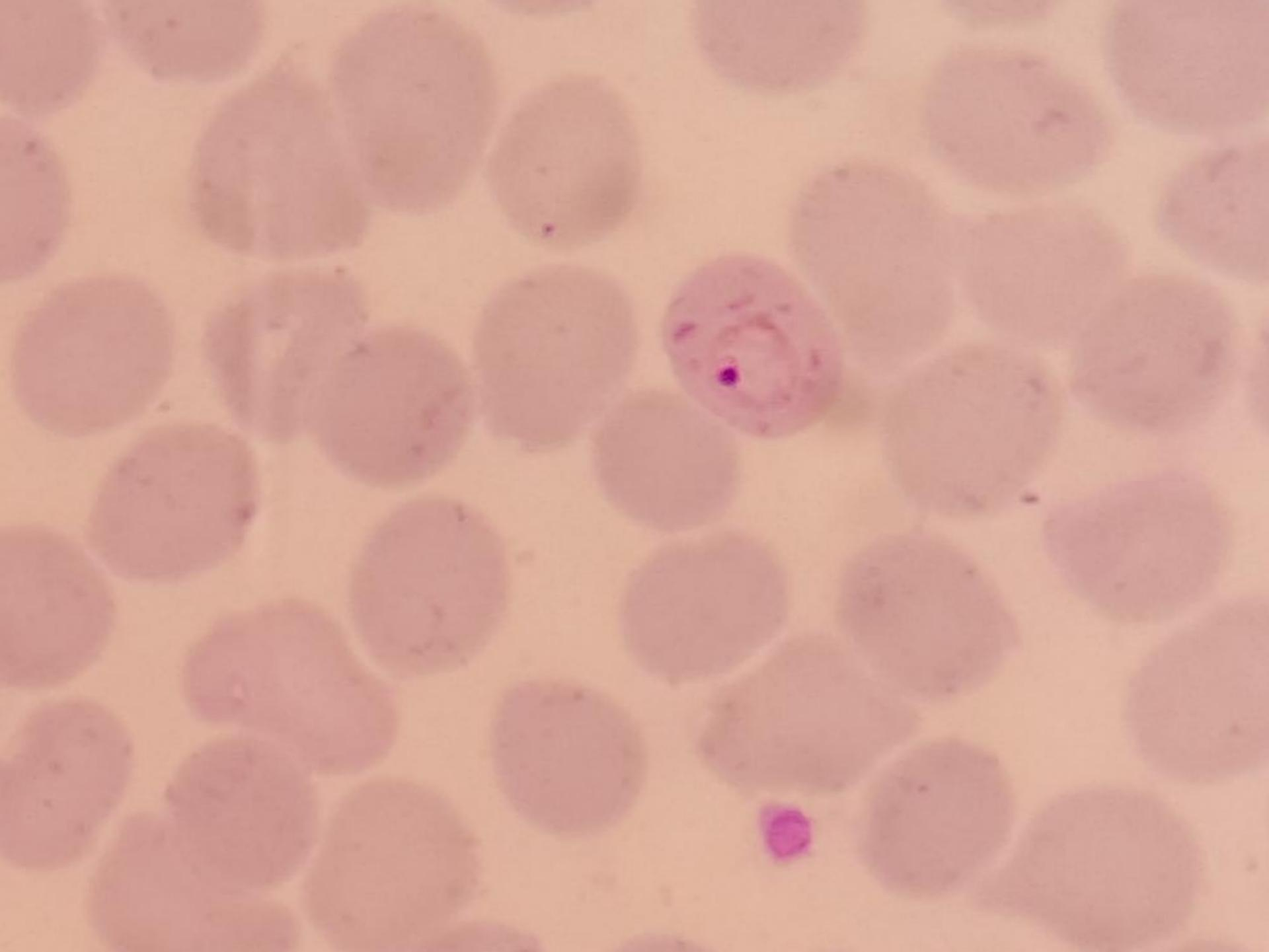Infected: (664, 255, 841, 435)
Uninfected: (185, 60, 375, 262), (183, 603, 398, 780), (706, 635, 919, 798), (790, 161, 964, 359), (337, 5, 501, 211), (1018, 782, 1206, 952), (468, 266, 637, 452), (884, 350, 1064, 521), (839, 527, 1018, 694), (344, 496, 506, 677), (1066, 268, 1241, 435), (203, 273, 377, 440), (486, 75, 646, 252), (924, 42, 1109, 192), (1044, 471, 1228, 621), (304, 326, 472, 488), (83, 425, 256, 581), (853, 737, 1015, 901), (618, 531, 789, 685), (1129, 597, 1269, 783), (10, 273, 172, 429), (965, 194, 1128, 344), (492, 679, 648, 835), (0, 696, 139, 871), (329, 775, 482, 924), (177, 735, 327, 886), (1115, 0, 1269, 143), (593, 395, 746, 532), (0, 524, 115, 685)
